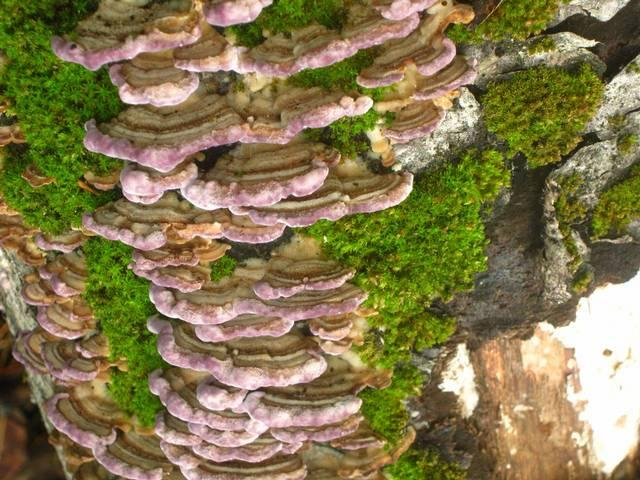poisonous_mushroom: (2, 0, 484, 479)
